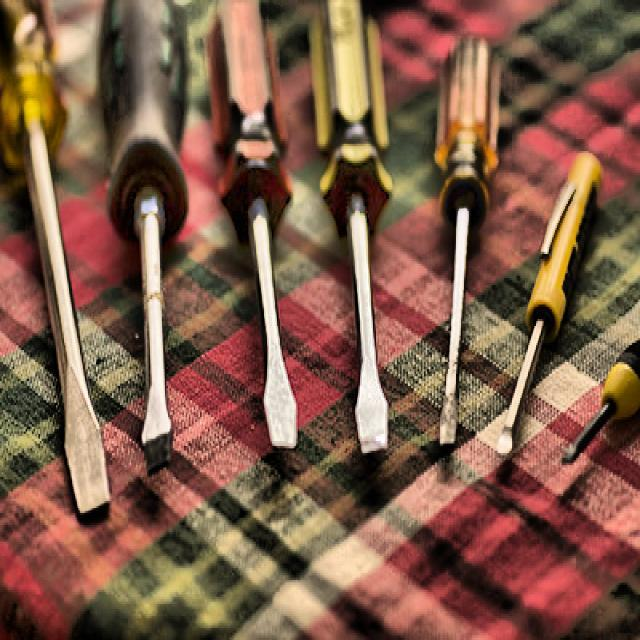screwdriver: (0, 0, 112, 520), (98, 2, 188, 473), (308, 0, 398, 452), (208, 5, 298, 448), (498, 156, 602, 457), (437, 35, 494, 446)
